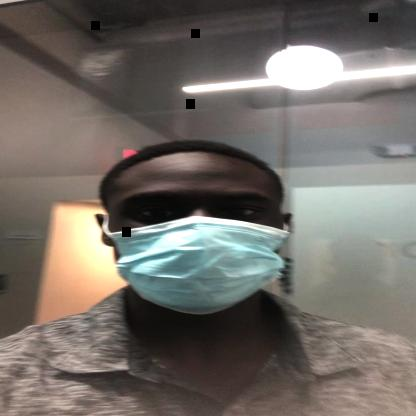mask: (98, 144, 292, 314)
